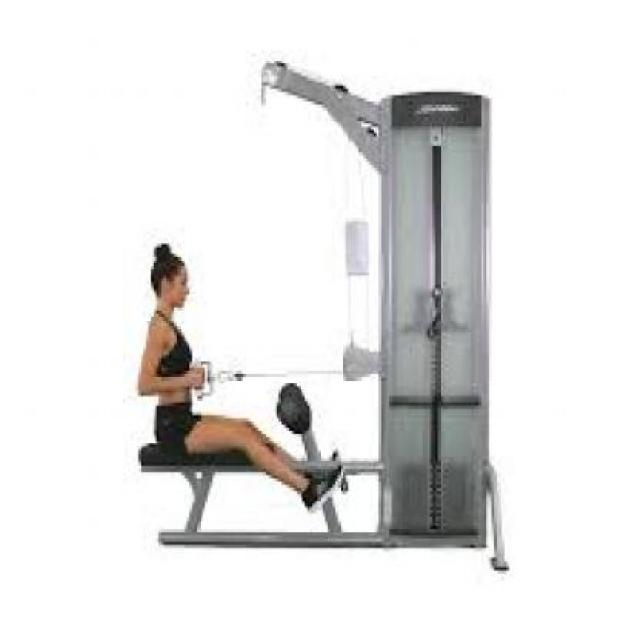Seated Cable Rows: (119, 55, 522, 580)
